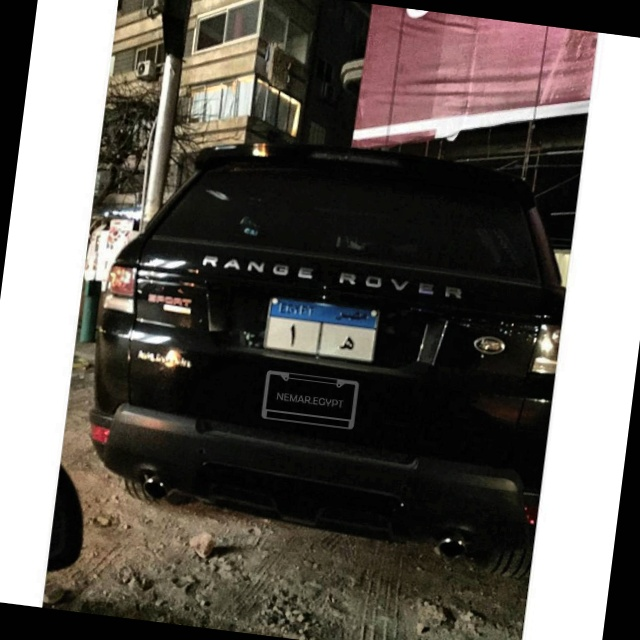License Plate: (258, 292, 383, 366)
